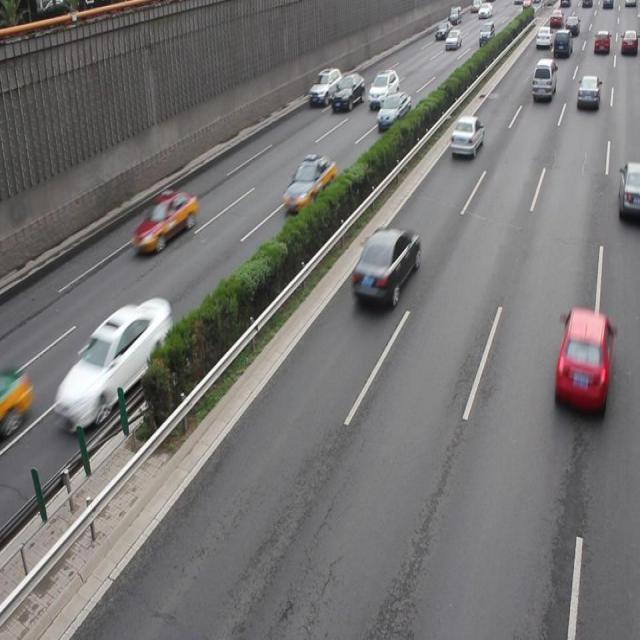car: (53, 295, 172, 435), (552, 307, 613, 415), (350, 226, 420, 308), (132, 188, 198, 255), (281, 153, 336, 212), (449, 114, 483, 160), (616, 161, 640, 221), (376, 91, 411, 129)
